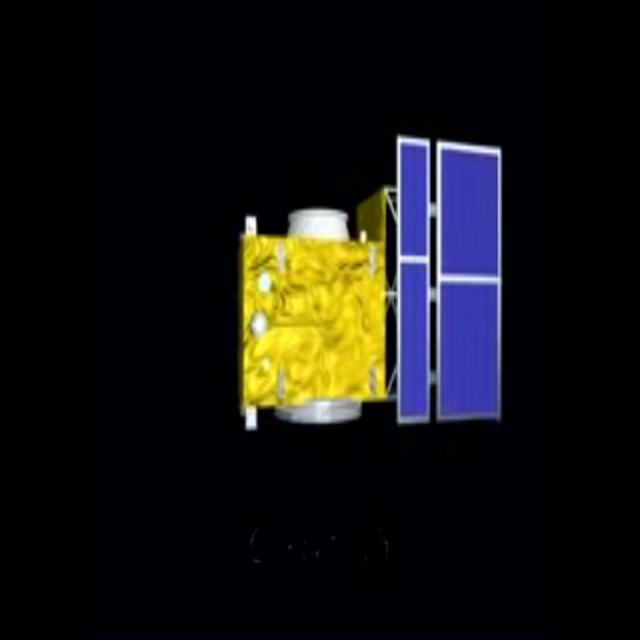medium_debris: (208, 59, 539, 514)
